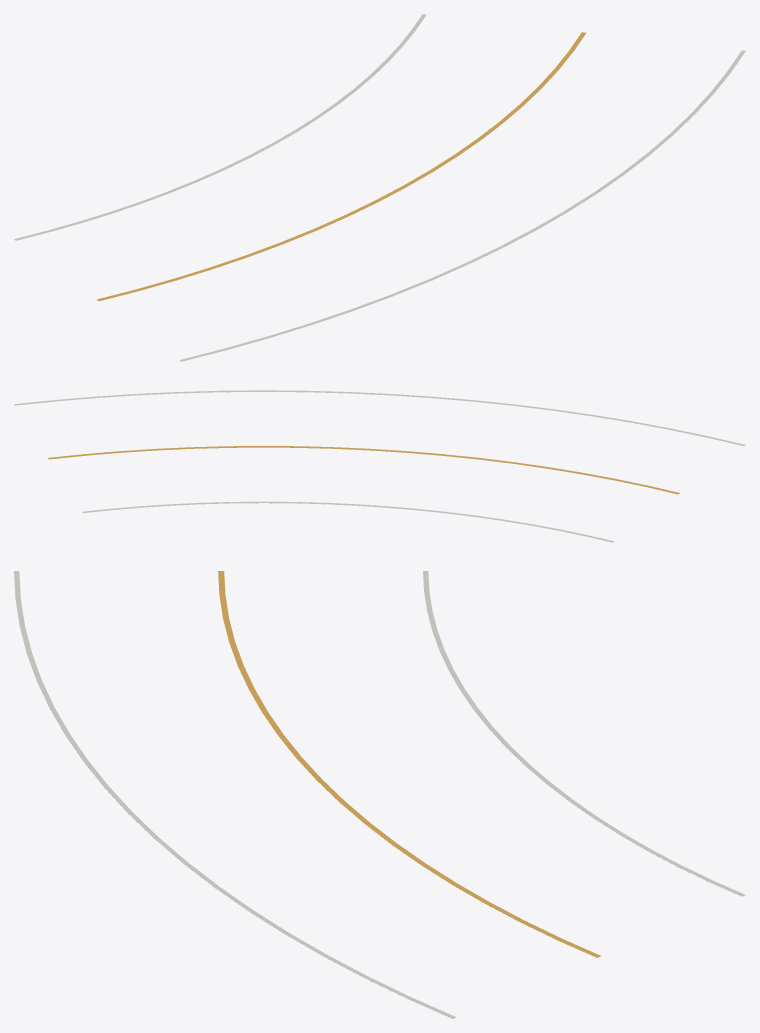
The model's file is RoadPlan_CurveMarking_2L_A45_R18.glb.
3 views of the same model, one above another, from view 1: azimuth 30°, elevation 25°; view 2: azimuth 150°, elevation 25°; view 3: azimuth 270°, elevation 25° (orthographic). The views are drawn at different scales.
Visible parts, largest first — view 1: RoadPlan_CurveMarking_2L_A45_R18_EdgeRight, RoadPlan_CurveMarking_2L_A45_R18_Center, RoadPlan_CurveMarking_2L_A45_R18_EdgeLeft; view 2: RoadPlan_CurveMarking_2L_A45_R18_EdgeRight, RoadPlan_CurveMarking_2L_A45_R18_Center, RoadPlan_CurveMarking_2L_A45_R18_EdgeLeft; view 3: RoadPlan_CurveMarking_2L_A45_R18_EdgeRight, RoadPlan_CurveMarking_2L_A45_R18_Center, RoadPlan_CurveMarking_2L_A45_R18_EdgeLeft.
Part boxes in pixels (x1,y1,x2,y2): RoadPlan_CurveMarking_2L_A45_R18_EdgeRight: (179, 50, 745, 361); RoadPlan_CurveMarking_2L_A45_R18_Center: (97, 32, 586, 301); RoadPlan_CurveMarking_2L_A45_R18_EdgeLeft: (14, 14, 426, 240); RoadPlan_CurveMarking_2L_A45_R18_EdgeRight: (14, 390, 745, 445); RoadPlan_CurveMarking_2L_A45_R18_Center: (48, 446, 679, 494); RoadPlan_CurveMarking_2L_A45_R18_EdgeLeft: (82, 501, 613, 542); RoadPlan_CurveMarking_2L_A45_R18_EdgeRight: (14, 571, 456, 1018); RoadPlan_CurveMarking_2L_A45_R18_Center: (218, 571, 601, 957); RoadPlan_CurveMarking_2L_A45_R18_EdgeLeft: (423, 571, 745, 896).
Size of the model in its own units: 14.77 by 0.0007 by 10.2.
